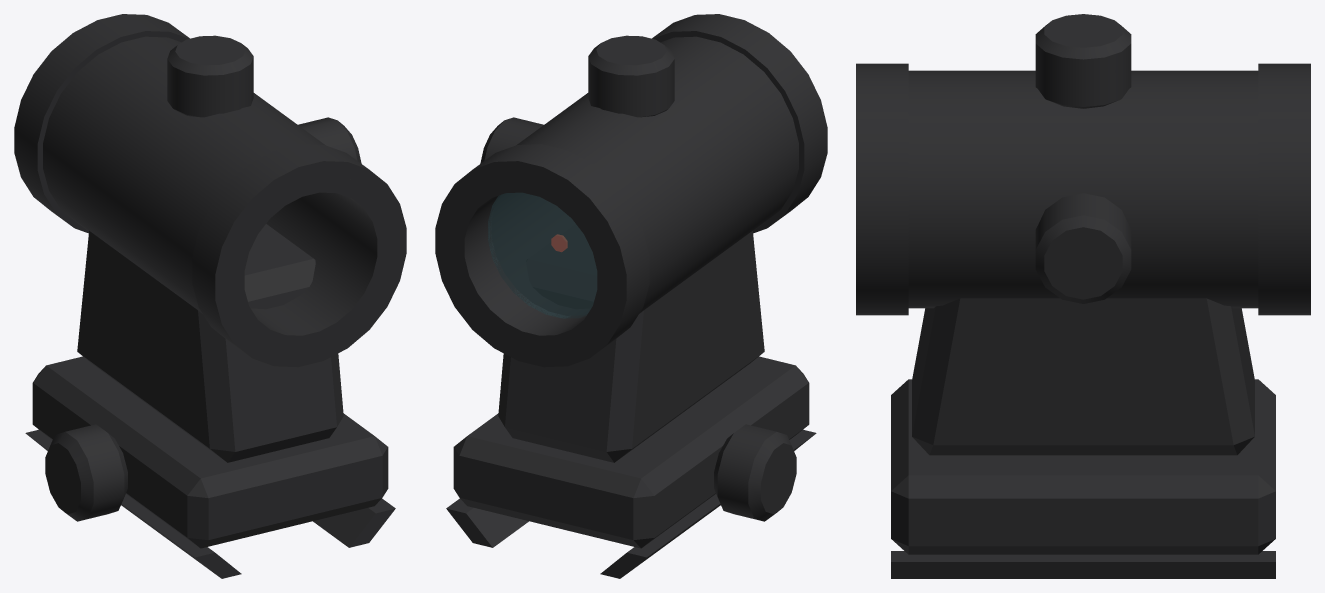
File: ATT_RedDot.glb
3 renders of one model, left to right at view 1: azimuth 30°, elevation 25°; view 2: azimuth 150°, elevation 25°; view 3: azimuth 270°, elevation 25°, orthographic. The views are drawn at different scales.
Visible parts, largest first — view 1: Body; view 2: Body, Glass; view 3: Body.
Part boxes in pixels (x1,y1,x2,y2): Body: [14, 14, 406, 578]; Body: [435, 14, 827, 578]; Glass: [488, 192, 597, 318]; Body: [856, 14, 1310, 578].
Size of the model in its own units: 0.21 by 0.32 by 0.26.
